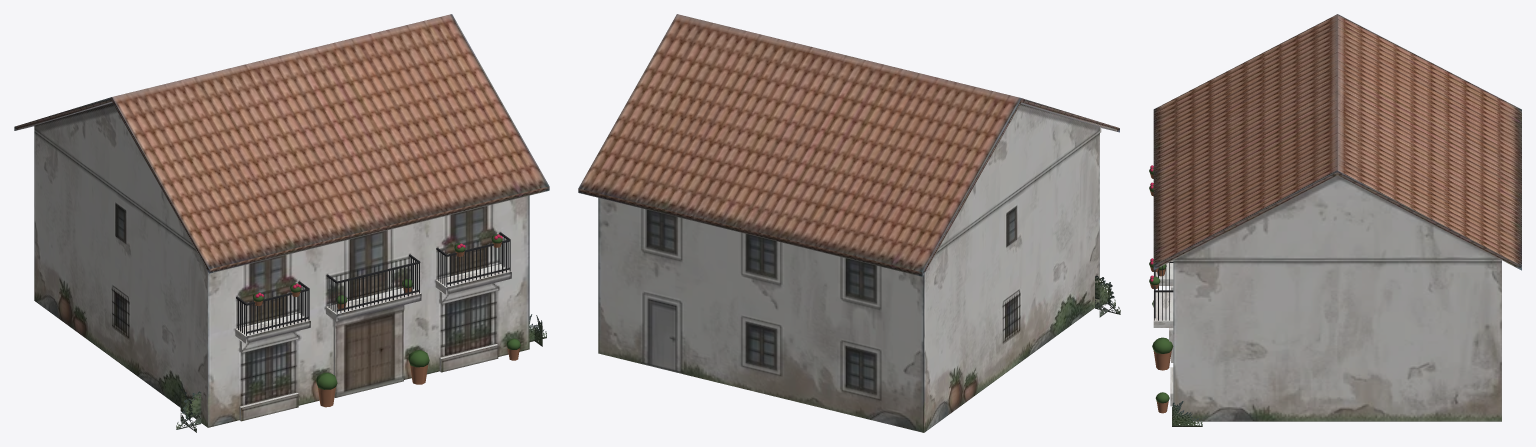
The model's file is casa_dos_plantas.glb.
The picture shows the model from 3 angles, left to right: view 1: azimuth 30°, elevation 25°; view 2: azimuth 150°, elevation 25°; view 3: azimuth 270°, elevation 25°; orthographic projection. The views are drawn at different scales.
Parts seen in each view (by area): view 1: CD_Casa, CD_Barandillas, CD_MacetaBalcon_-42_Mata, CD_PlantasFoto, CD_MacetaBalcon_-42_Tiesto; view 2: CD_Casa, CD_PlantasFoto; view 3: CD_Casa, CD_MacetaBalcon_-42_Mata, CD_MacetaBalcon_-42_Tiesto, CD_PlantasFoto, CD_Barandillas.
Boxes of the visible parts, x1,y1,x2,y2 form: CD_Casa: (14, 14, 549, 427); CD_Barandillas: (236, 232, 510, 335); CD_MacetaBalcon_-42_Mata: (252, 234, 520, 389); CD_PlantasFoto: (176, 314, 546, 432); CD_MacetaBalcon_-42_Tiesto: (254, 242, 519, 407); CD_Casa: (578, 14, 1119, 432); CD_PlantasFoto: (1095, 275, 1120, 317); CD_Casa: (1153, 14, 1521, 421); CD_MacetaBalcon_-42_Mata: (1149, 168, 1173, 403); CD_MacetaBalcon_-42_Tiesto: (1150, 173, 1171, 413); CD_PlantasFoto: (1172, 401, 1202, 426); CD_Barandillas: (1154, 262, 1173, 320).
Bounding box in the file's own units: 13.25 × 9.16 × 12.14.
6 materials, 2 textured.
